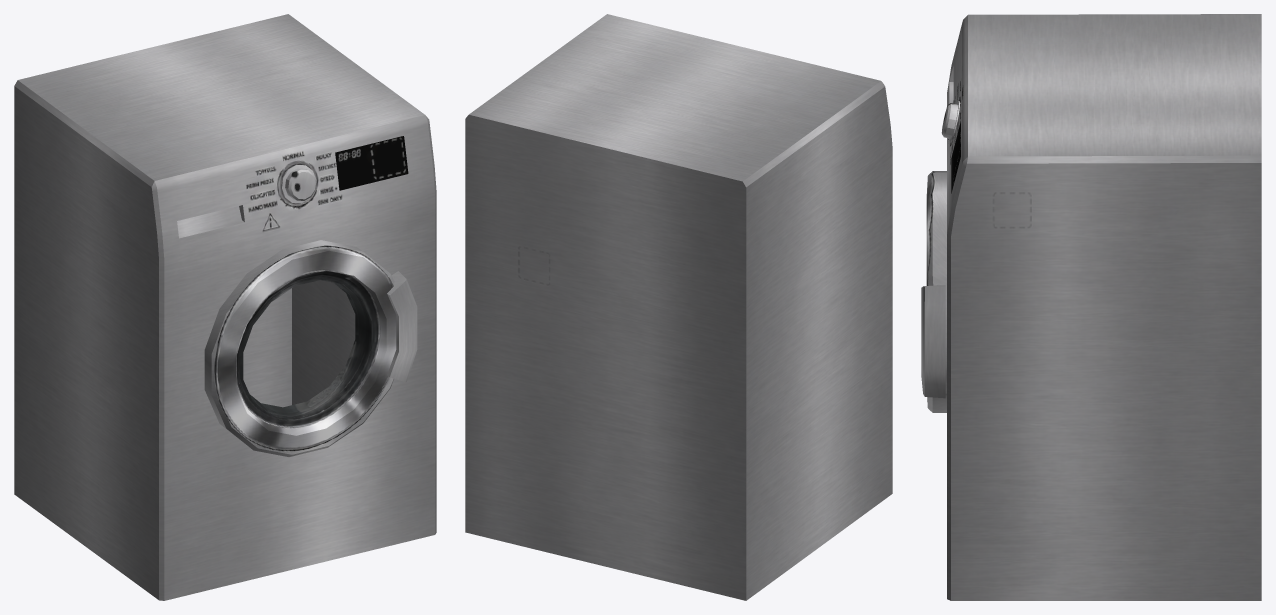
The model's file is Washing machine.fbx.
3 renders of one model, left to right at view 1: azimuth 30°, elevation 25°; view 2: azimuth 150°, elevation 25°; view 3: azimuth 270°, elevation 25°, orthographic. The views are drawn at different scales.
Visible parts, largest first — view 1: Washing machine; view 2: Washing machine; view 3: Washing machine.
Part boxes in pixels (x1,y1,x2,y2): Washing machine: [14, 14, 436, 600]; Washing machine: [465, 14, 892, 600]; Washing machine: [921, 14, 1261, 600].
Bounding box in the file's own units: 59 × 84 × 58.43.
